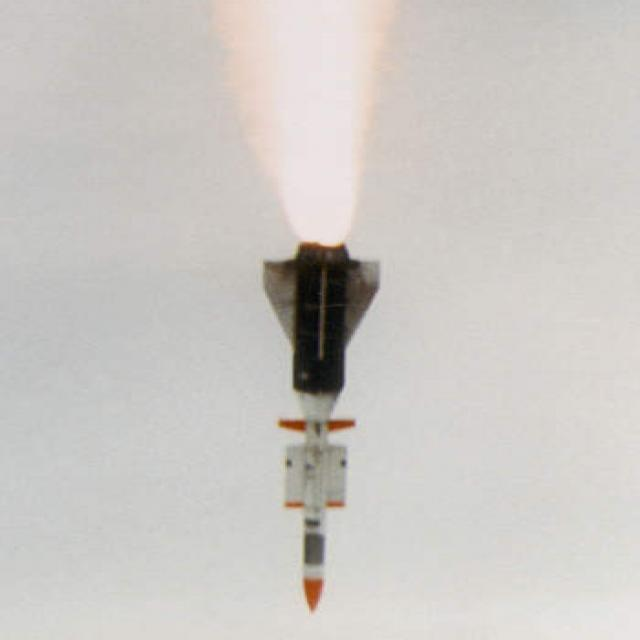missile: (246, 238, 394, 608)
